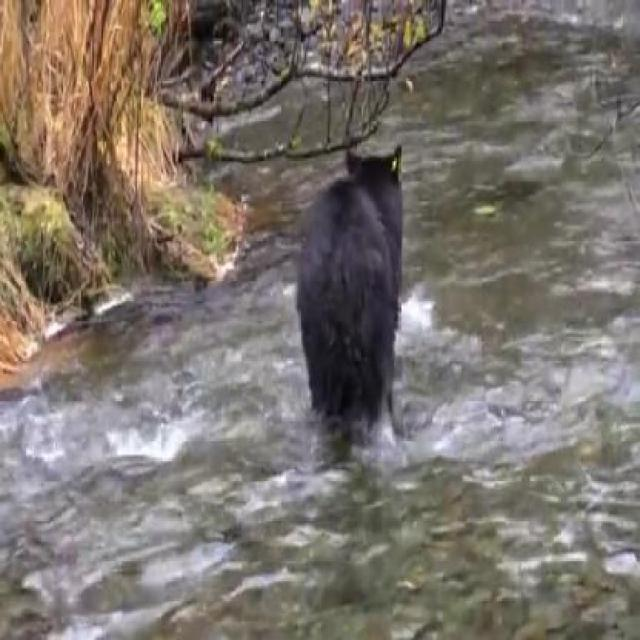Bear: (282, 135, 415, 442)
